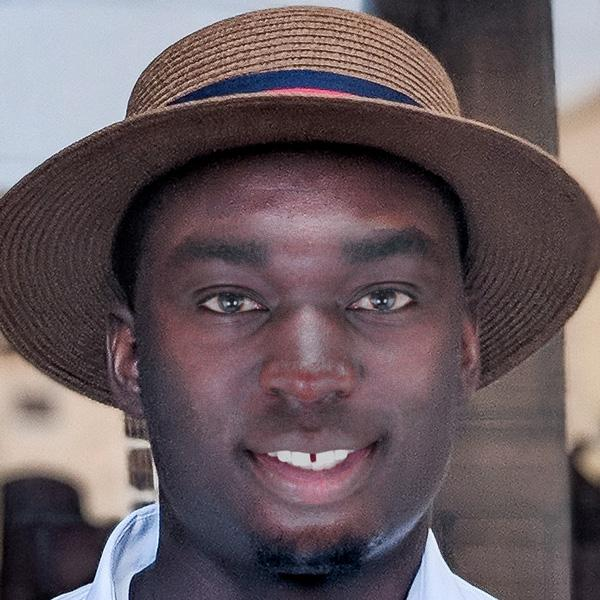Eyes: (182, 273, 276, 326), (338, 274, 422, 325)
